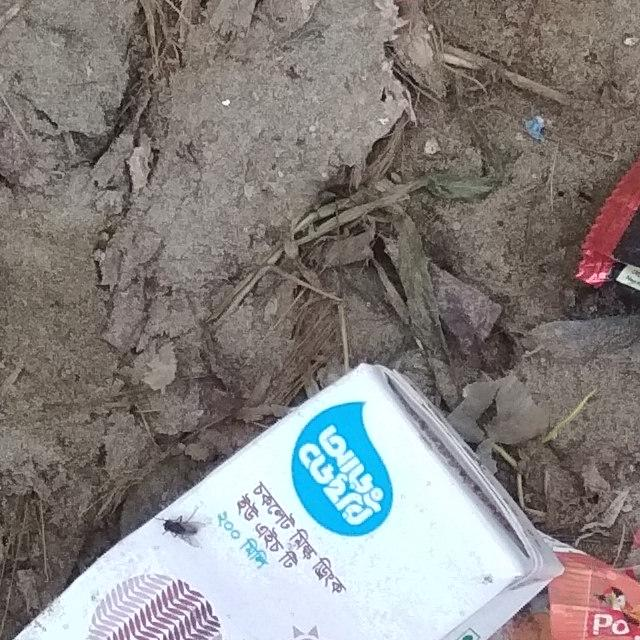paper: (0, 329, 565, 640)
